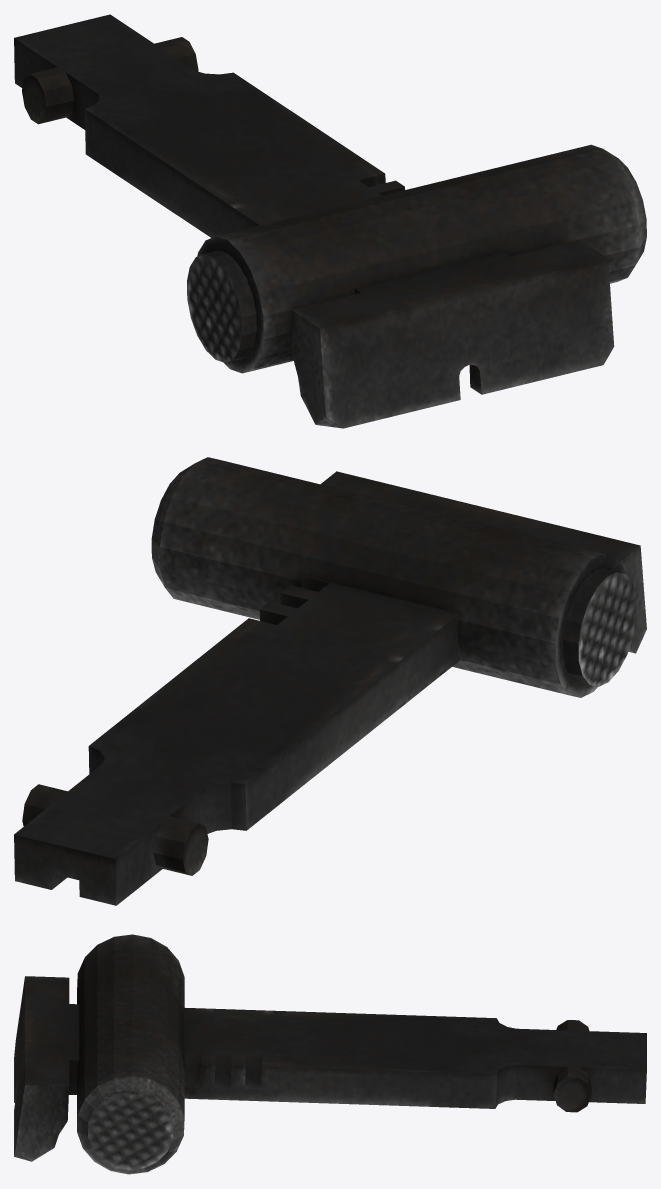
3 renders of one model, top to bottom at view 1: azimuth 30°, elevation 25°; view 2: azimuth 150°, elevation 25°; view 3: azimuth 270°, elevation 25°, orthographic. The views are drawn at different scales.
Visible parts, largest first — view 1: TW_599860e986f7743bb57573a6_PZ_Import; view 2: TW_599860e986f7743bb57573a6_PZ_Import; view 3: TW_599860e986f7743bb57573a6_PZ_Import.
Part boxes in pixels (left/top/right/bottom): TW_599860e986f7743bb57573a6_PZ_Import: left=14, top=14, right=646, bottom=428; TW_599860e986f7743bb57573a6_PZ_Import: left=14, top=457, right=646, bottom=905; TW_599860e986f7743bb57573a6_PZ_Import: left=14, top=934, right=646, bottom=1174.
Bounding box in the file's own units: 0.0175 × 0.0306 × 0.00588.
1 material, 1 textured.
